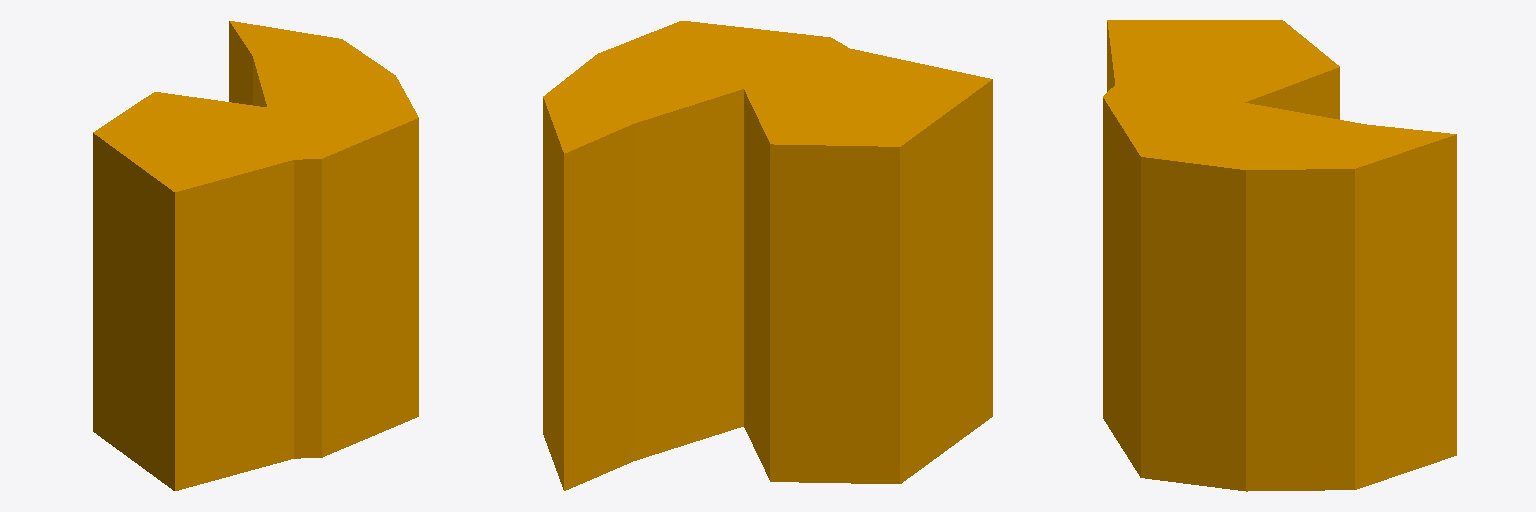
URDF robot description (object):
<?xml version="1.0"?>
<robot name="object">
  <link name="object">
    <visual>
      <origin xyz="0 0 0"/>
      <geometry>
        <mesh filename="meshes/polygon/poly_116_s.obj" scale=".03 .03 .03"/>
      </geometry>
    </visual>
    <collision>
  <origin xyz="0 0 0"/>
  <geometry>
    <mesh filename="meshes/polygon/poly_116_s_0decompose.obj" scale=".03 .03 .03"/>
<!--          <mesh filename="meshes/custom/obj0_ball.obj" scale=".05 .05 .05"/>-->
  </geometry>
</collision><collision>
  <origin xyz="0 0 0"/>
  <geometry>
    <mesh filename="meshes/polygon/poly_116_s_1decompose.obj" scale=".03 .03 .03"/>
<!--          <mesh filename="meshes/custom/obj0_ball.obj" scale=".05 .05 .05"/>-->
  </geometry>
</collision>

<!--    <collision>-->
<!--      <origin xyz="0 0 0"/>-->
<!--      <geometry>-->
<!--        <mesh filename="meshes/polygon/poly_116_s.obj" scale=".03 .03 .03"/>-->
<!--&lt;!&ndash;          <mesh filename="meshes/custom/obj0_ball.obj" scale=".05 .05 .05"/>&ndash;&gt;-->
<!--      </geometry>-->
<!--    </collision>-->
    <inertial>
      <density value="1000.0"/>
    </inertial>
  </link>
</robot>

--- Facts derived from the render (not from the file) ---
3 views of the same robot in one strip: view 1: azimuth 30°, elevation 25°; view 2: azimuth 150°, elevation 25°; view 3: azimuth 270°, elevation 25° (orthographic).
Model object with 1 links and 0 joints (none), rooted at object, posed all joints at 0.
Visible links, largest first — view 1: object; view 2: object; view 3: object.
Boxes of the visible links, box(x1,y1,x2,y2) form: object: box(93, 21, 418, 490); object: box(543, 21, 992, 490); object: box(1103, 20, 1456, 491).
Size in the robot's own frame: 0.06 by 0.06 by 0.06 metres.
1 mesh visuals loaded from 1 distinct referenced files (1 OBJ).
